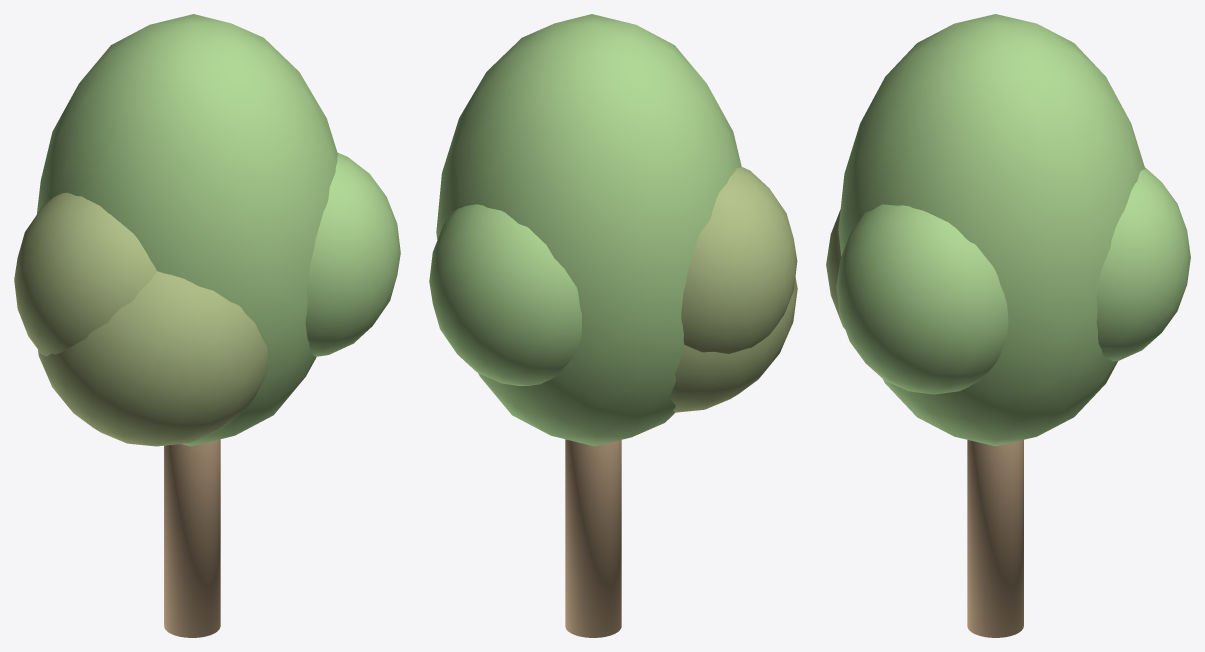
The model's file is tree_ultra.glb.
The picture shows the model from 3 angles, left to right: view 1: azimuth 30°, elevation 25°; view 2: azimuth 150°, elevation 25°; view 3: azimuth 270°, elevation 25°; orthographic projection.
Parts seen in each view (by area): view 1: Canopy_green, Canopy_olive, Trunk_wood; view 2: Canopy_green, Canopy_olive, Trunk_wood; view 3: Canopy_green, Trunk_wood, Canopy_olive.
Boxes of the visible parts, x1,y1,x2,y2 form: Canopy_green: (37, 14, 400, 446); Canopy_olive: (14, 192, 267, 446); Trunk_wood: (164, 439, 220, 637); Canopy_green: (429, 14, 741, 446); Canopy_olive: (671, 166, 797, 412); Trunk_wood: (565, 439, 621, 637); Canopy_green: (836, 14, 1190, 446); Trunk_wood: (967, 440, 1023, 637); Canopy_olive: (826, 209, 844, 328).
Bounding box in the file's own units: 1.54 × 2.58 × 1.42.
